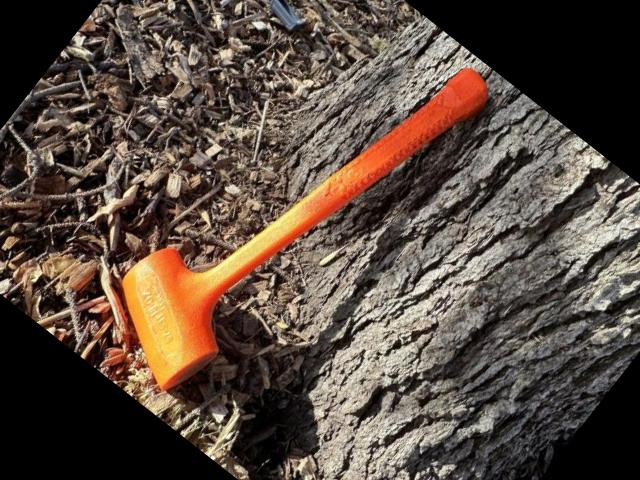hammer: (82, 0, 497, 438)
